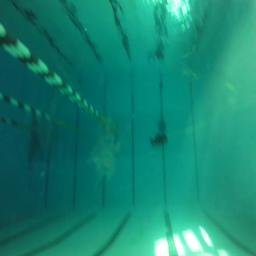Side: (150, 130, 170, 146)
